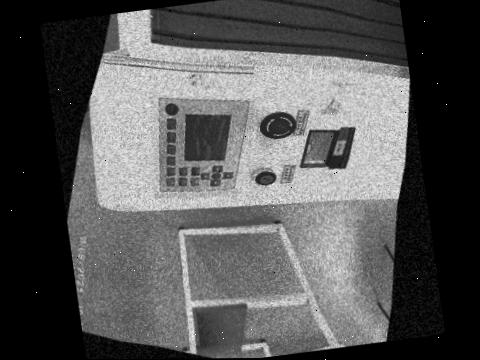Amp_Meter: (301, 129, 338, 165)
Display: (184, 113, 230, 159)
Down_button: (200, 171, 210, 179)
Emergency_Stop: (260, 110, 296, 137)
Enter_button: (191, 176, 199, 185)
Esc_button: (191, 166, 199, 174)
File_button: (167, 166, 175, 175)
Frame_button: (179, 176, 187, 185)
Left_button: (212, 164, 223, 171)
Max-Power_button: (167, 155, 175, 164)
Min-Power_button: (167, 144, 176, 153)
Origin_button: (179, 166, 188, 174)
Power_switch: (253, 167, 276, 184)
Pulse_button: (167, 117, 176, 128)
Reset_button: (165, 102, 178, 114)
Right_button: (210, 178, 220, 185)
Speed_button: (167, 131, 176, 141)
Start-Pause_button: (167, 177, 175, 185)
Up_button: (223, 171, 233, 178)
Z_U_button: (212, 171, 221, 177)
